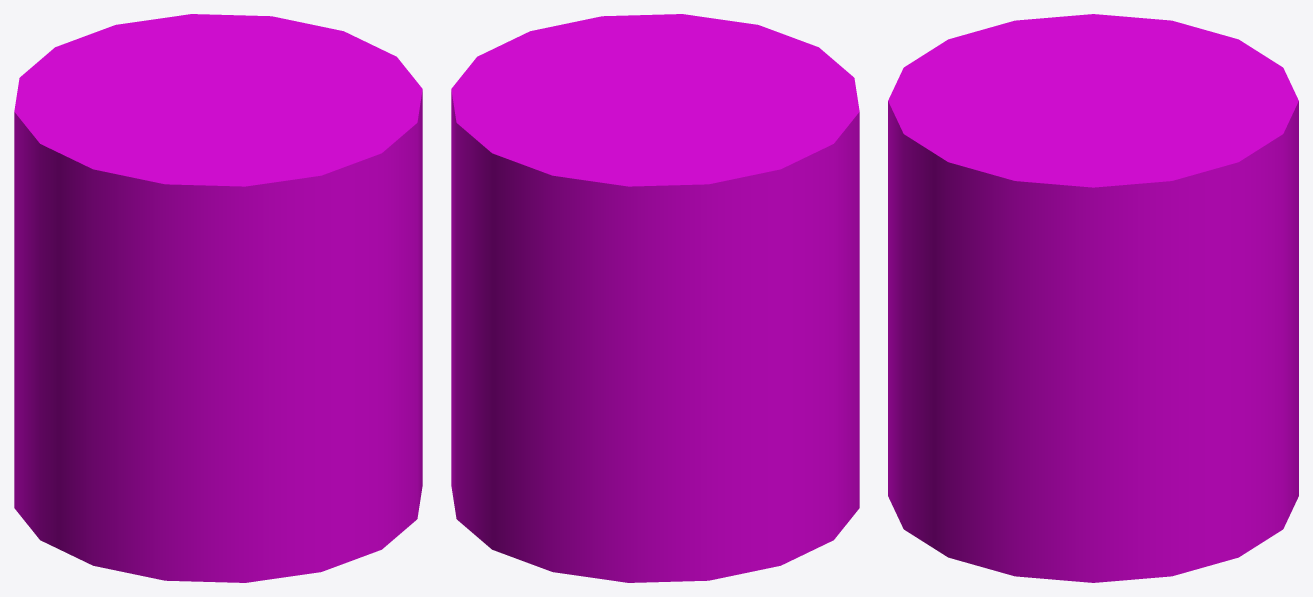
Rendered from SM_MopBucketCollider.fbx.
3 views of the same model, side by side, from view 1: azimuth 30°, elevation 25°; view 2: azimuth 150°, elevation 25°; view 3: azimuth 270°, elevation 25° (orthographic).
Parts seen in each view (by area): view 1: MopBucketCollision; view 2: MopBucketCollision; view 3: MopBucketCollision.
Boxes of the visible parts, bbox=[...] form: MopBucketCollision: bbox=[14, 14, 422, 582]; MopBucketCollision: bbox=[451, 14, 859, 582]; MopBucketCollision: bbox=[888, 14, 1298, 582].
Bounding box in the file's own units: 35.27 × 37.45 × 35.27.
